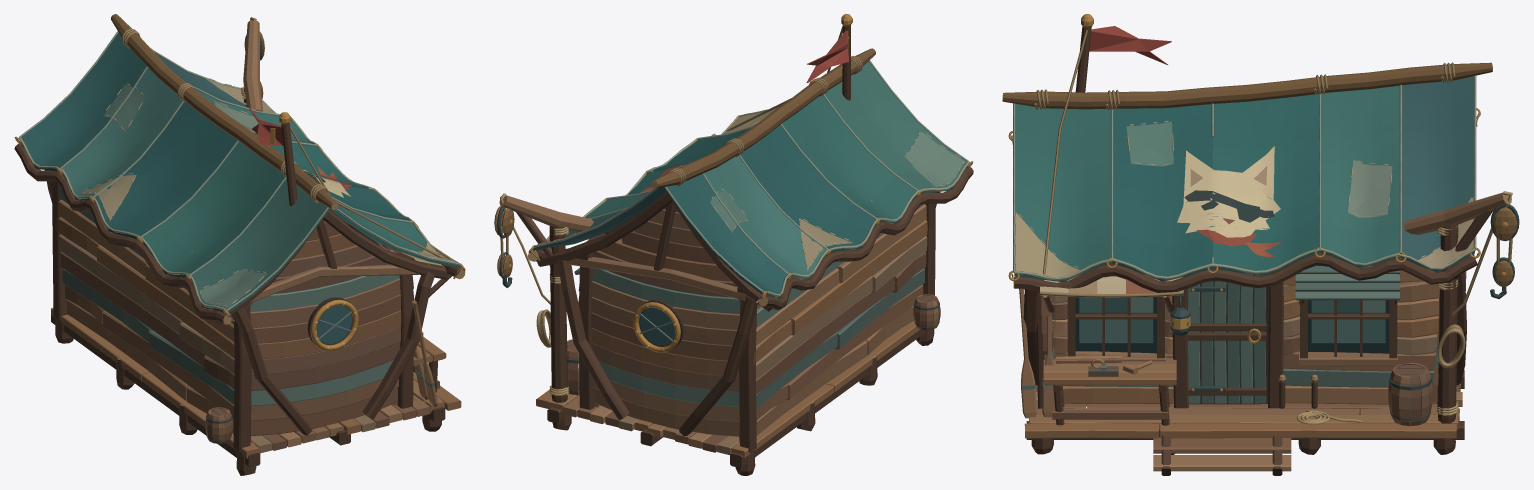
The model's file is SM_PirateSailLoft.fbx.
The picture shows the model from 3 angles, left to right: view 1: azimuth 30°, elevation 25°; view 2: azimuth 150°, elevation 25°; view 3: azimuth 270°, elevation 25°; orthographic projection. The views are drawn at different scales.
Parts seen in each view (by area): view 1: SM_PirateSailLoft; view 2: SM_PirateSailLoft; view 3: SM_PirateSailLoft.
Boxes of the visible parts, <box> form: SM_PirateSailLoft: <box>14,14,465,475</box>; SM_PirateSailLoft: <box>494,14,973,475</box>; SM_PirateSailLoft: <box>1002,14,1519,475</box>.
Size of what is drawn, in the model's own units: 3.76 by 5.44 by 4.31.
